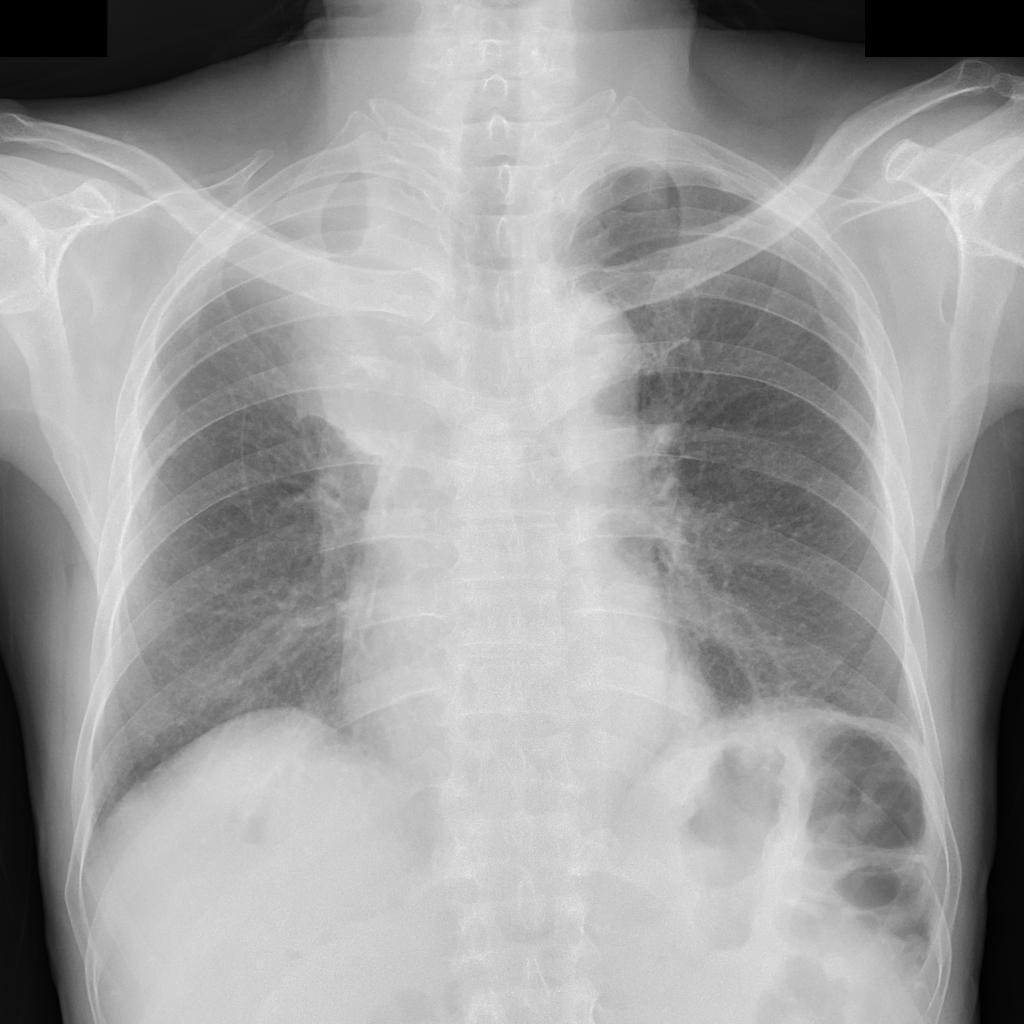Nodule: (318, 278, 435, 442)
